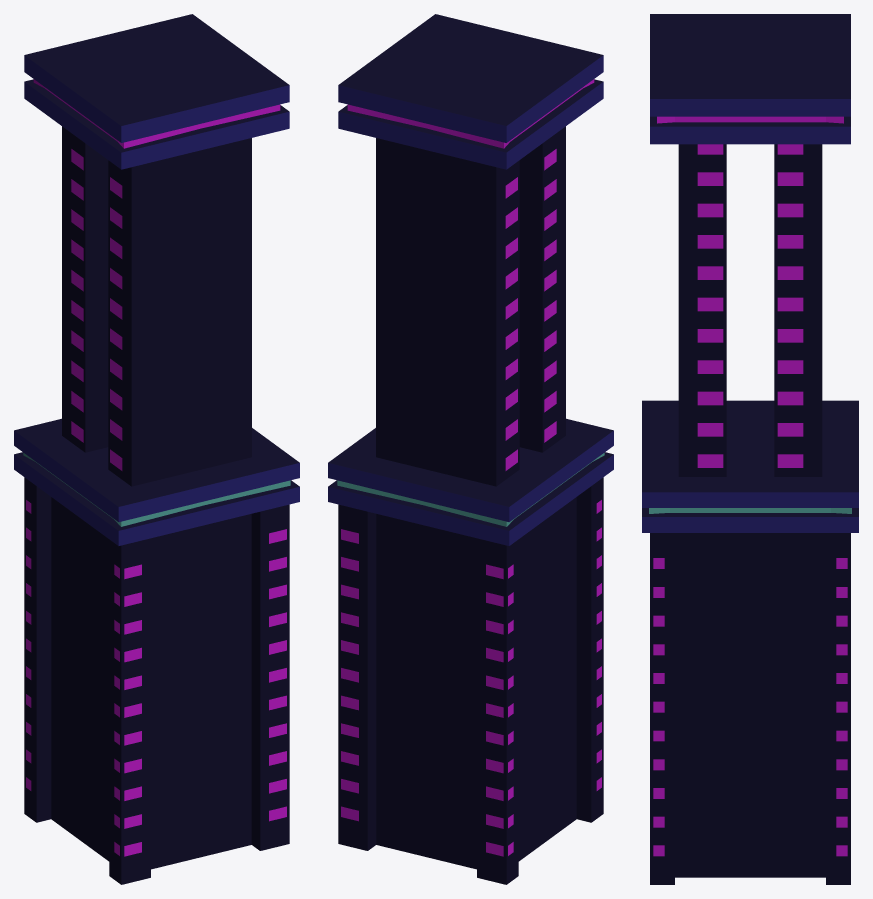
File: SM_Building_04.fbx
3 renders of one model, left to right at view 1: azimuth 30°, elevation 25°; view 2: azimuth 150°, elevation 25°; view 3: azimuth 270°, elevation 25°, orthographic. The views are drawn at different scales.
Visible parts, largest first — view 1: building_08.003; view 2: building_08.003; view 3: building_08.003.
Boxes of the visible parts, <box> form: building_08.003: <box>14,14,299,884</box>; building_08.003: <box>328,14,613,884</box>; building_08.003: <box>642,14,858,884</box>.
Bounding box in the file's own units: 4 × 16 × 4.
